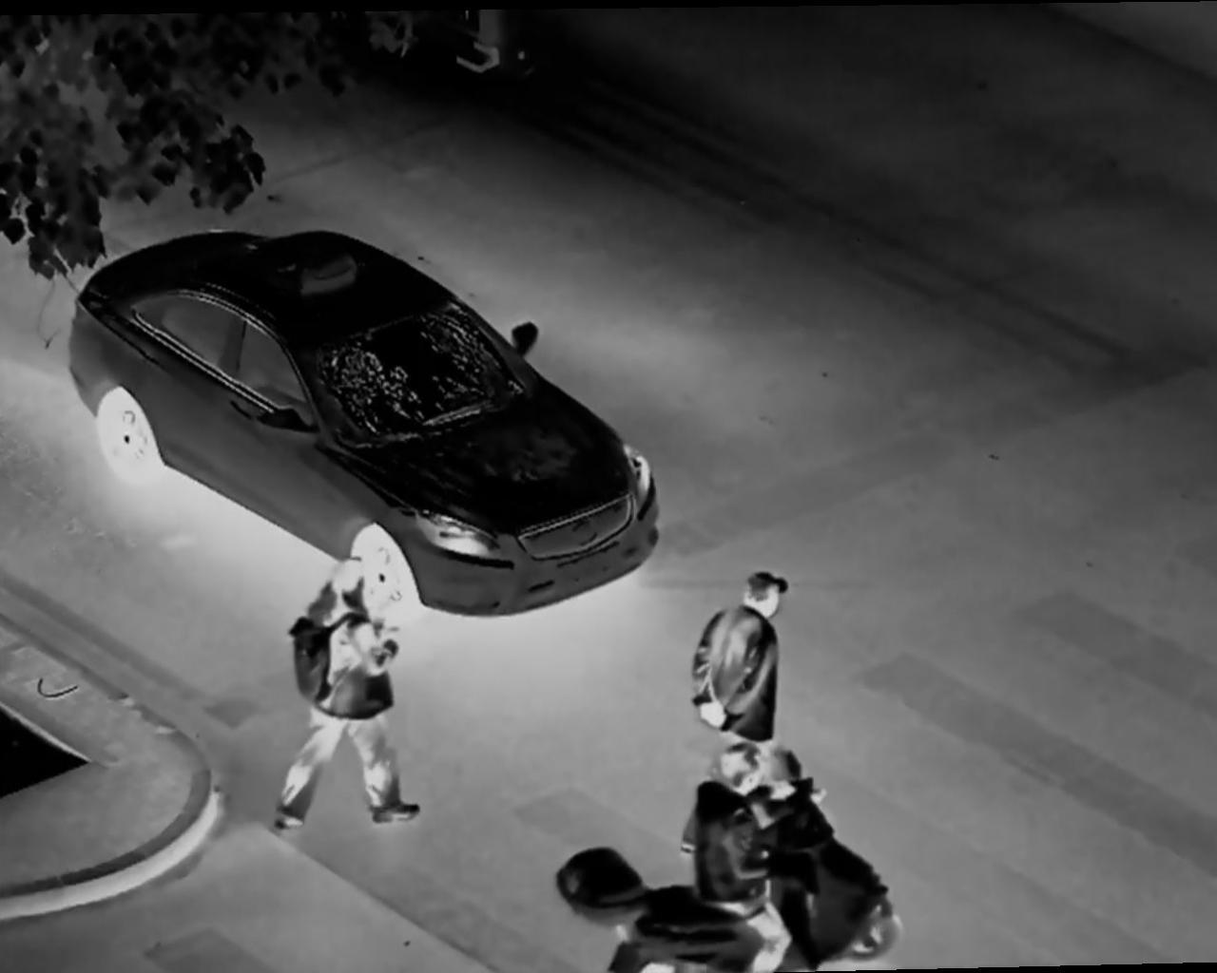person: (277, 553, 435, 845), (686, 743, 822, 963), (694, 564, 800, 782)
